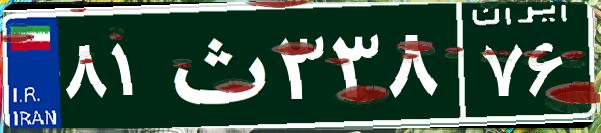1: (110, 28, 158, 105)
3: (273, 28, 330, 110), (330, 28, 385, 110)
6: (525, 38, 570, 115)
7: (475, 38, 525, 113)
8: (385, 28, 445, 110), (57, 26, 110, 107)
ث: (158, 15, 273, 115)
